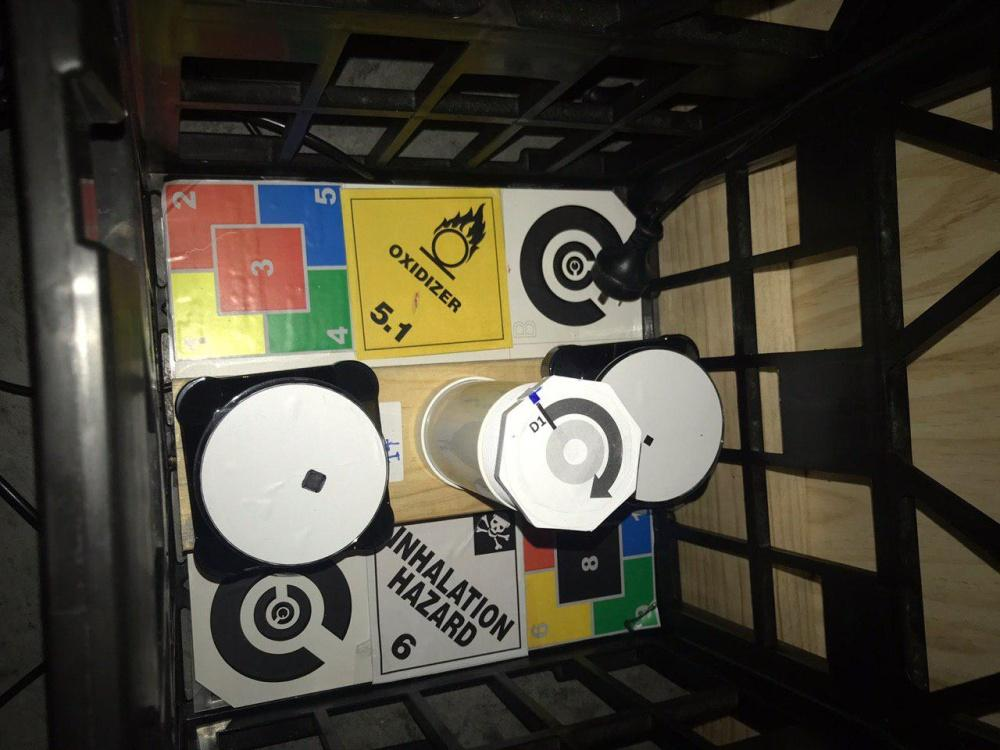oxidizer: (347, 190, 508, 357)
poison: (374, 509, 522, 677)
